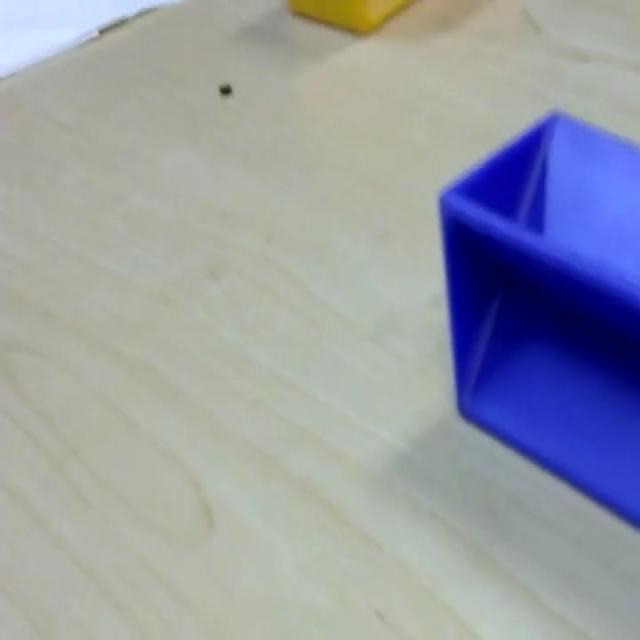blue_block: (436, 105, 638, 528)
yellow_block: (287, 0, 415, 35)
